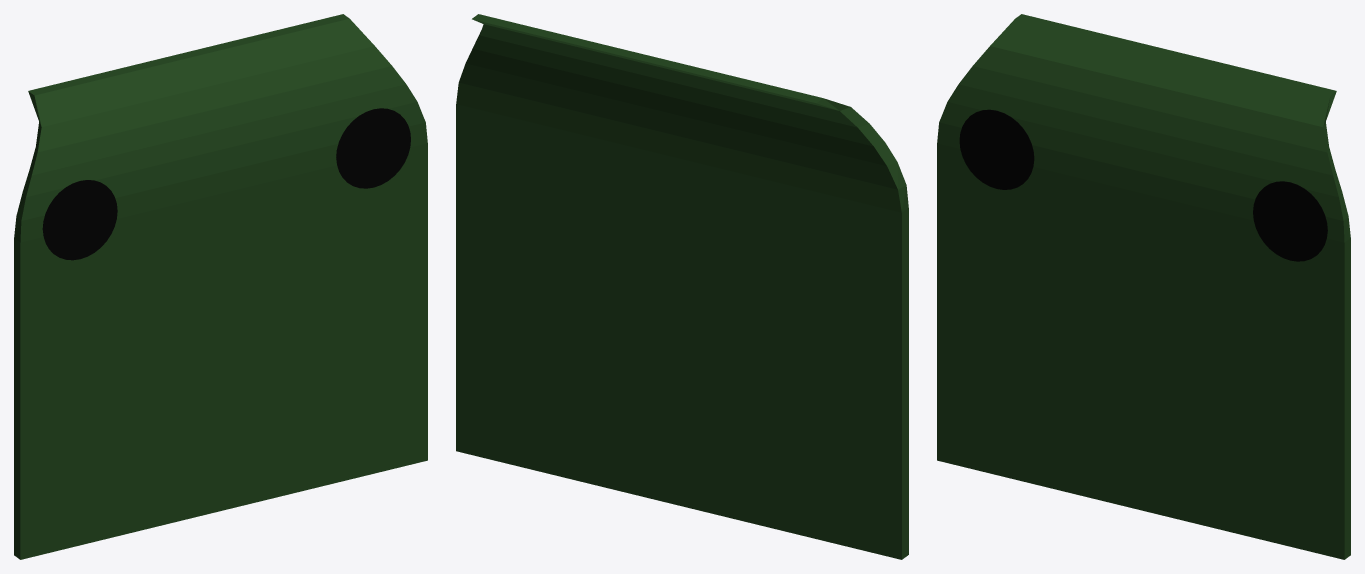
File: gwr-spectacle-plate.dae
The picture shows the model from 3 angles, left to right: view 1: azimuth 30°, elevation 25°; view 2: azimuth 150°, elevation 25°; view 3: azimuth 330°, elevation 25°; orthographic projection. The views are drawn at different scales.
Parts seen in each view (by area): view 1: Cube_009, Cylinder_003, Cylinder_004; view 2: Cube_009; view 3: Cube_009, Cylinder_003, Cylinder_004.
Part boxes in pixels (left/top/right/bottom): Cube_009: left=14, top=14, right=427, bottom=559; Cylinder_003: left=336, top=108, right=410, bottom=188; Cylinder_004: left=42, top=180, right=117, bottom=260; Cube_009: left=456, top=14, right=908, bottom=559; Cube_009: left=937, top=14, right=1350, bottom=559; Cylinder_003: left=1253, top=181, right=1327, bottom=261; Cylinder_004: left=959, top=109, right=1034, bottom=189.
Size of the model in its own units: 1.65 by 0.2694 by 1.66.
